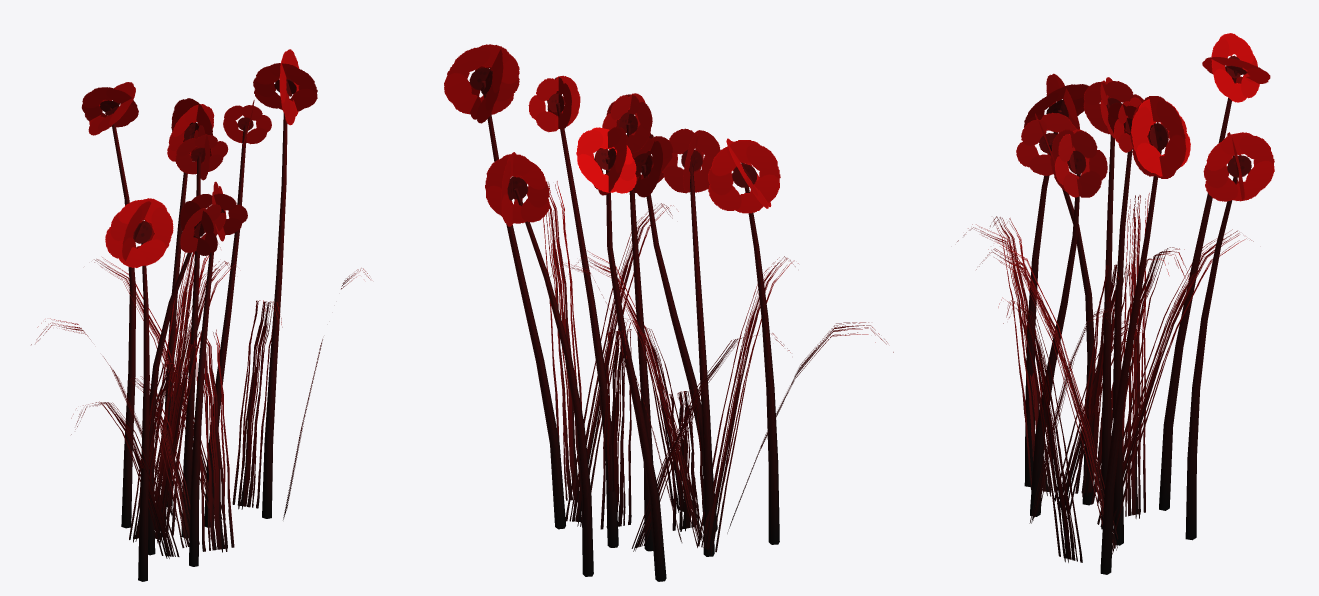
Rendered from plant_grassland_wildflower_b.glb.
The picture shows the model from 3 angles, left to right: view 1: azimuth 30°, elevation 25°; view 2: azimuth 150°, elevation 25°; view 3: azimuth 270°, elevation 25°; orthographic projection. The views are drawn at different scales.
Visible parts, largest first — view 1: plant_grassland_wildflower_b; view 2: plant_grassland_wildflower_b; view 3: plant_grassland_wildflower_b.
Part boxes in pixels (bbox=[...]): plant_grassland_wildflower_b: bbox=[31, 49, 370, 581]; plant_grassland_wildflower_b: bbox=[444, 44, 893, 581]; plant_grassland_wildflower_b: bbox=[957, 33, 1274, 574].
Bounding box in the file's own units: 0.4595 × 0.5913 × 0.368.
1 material, 1 textured.
